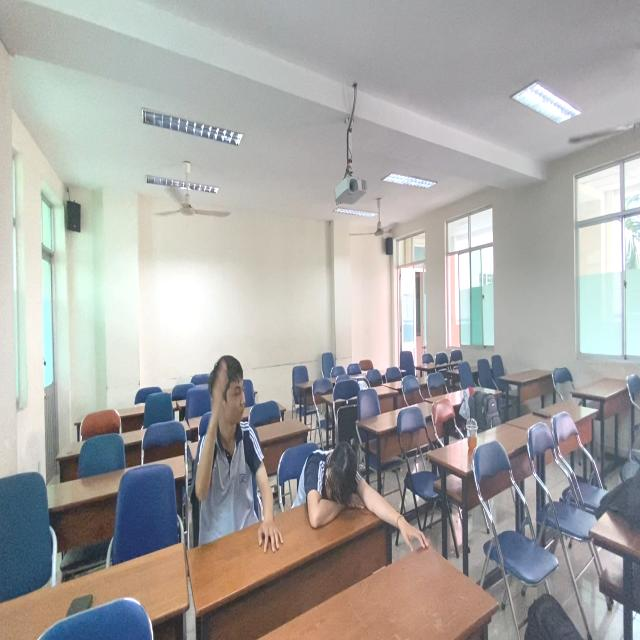sleep: (297, 435, 391, 537)
